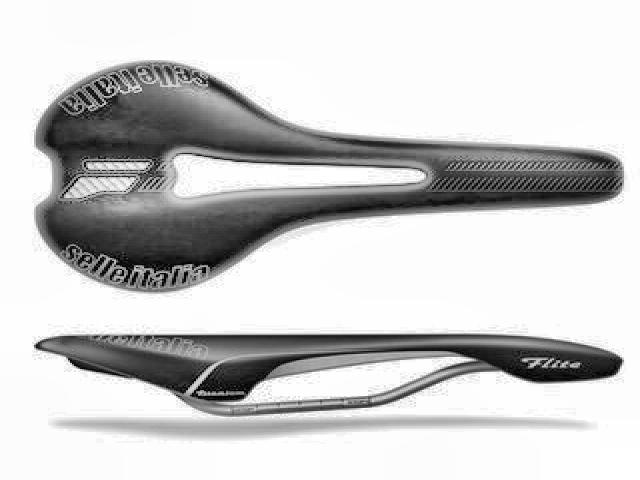saddle: (31, 54, 627, 296), (30, 328, 624, 423)
